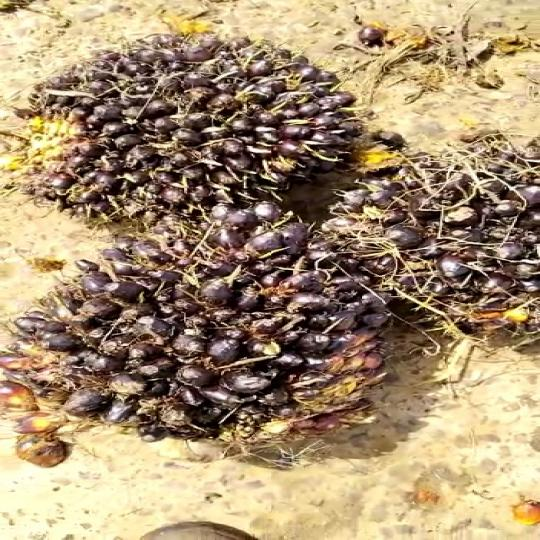mentah: (0, 213, 412, 462), (5, 18, 378, 197), (337, 130, 540, 328)
